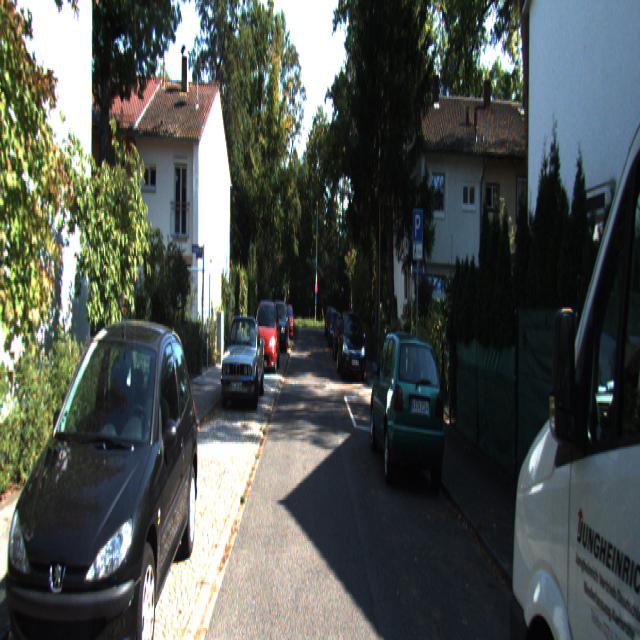Car: (504, 0, 639, 639), (0, 312, 202, 639), (370, 322, 449, 497), (220, 312, 264, 408), (336, 306, 366, 380), (252, 297, 278, 372), (269, 300, 289, 352)
